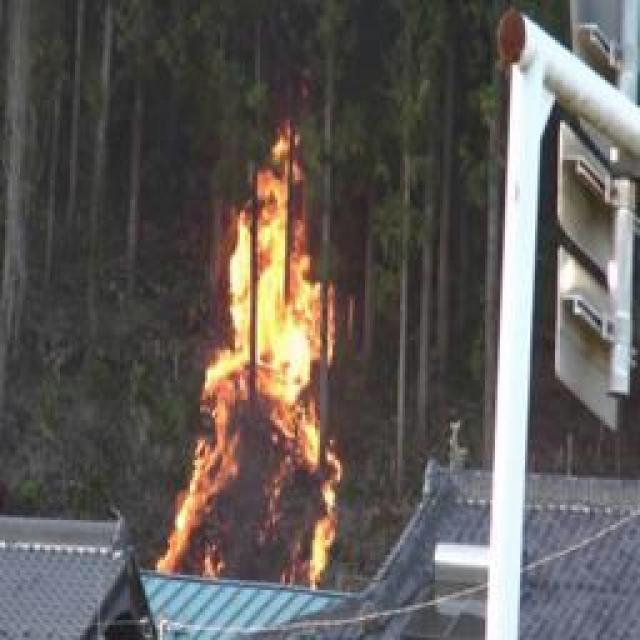Fire: (167, 136, 345, 589)
